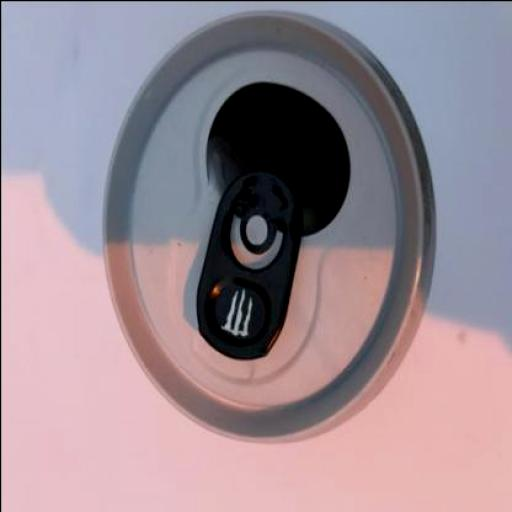metal: (100, 24, 436, 445)
